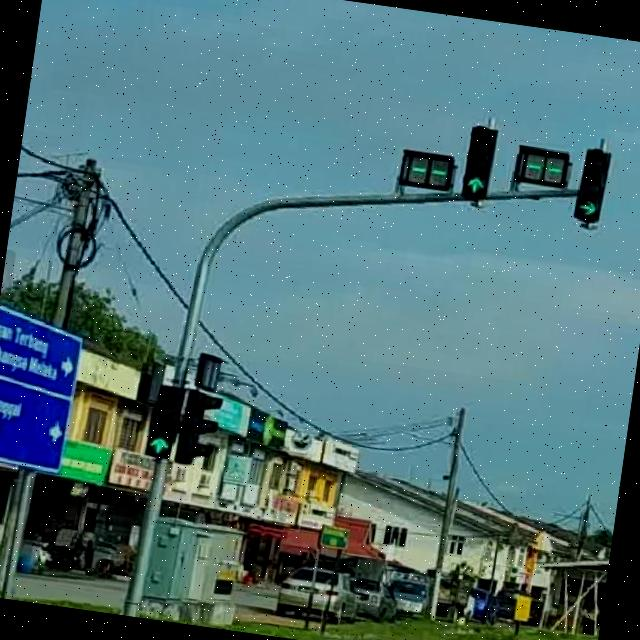green_light: (145, 382, 187, 458), (458, 124, 498, 198), (574, 147, 611, 220)
